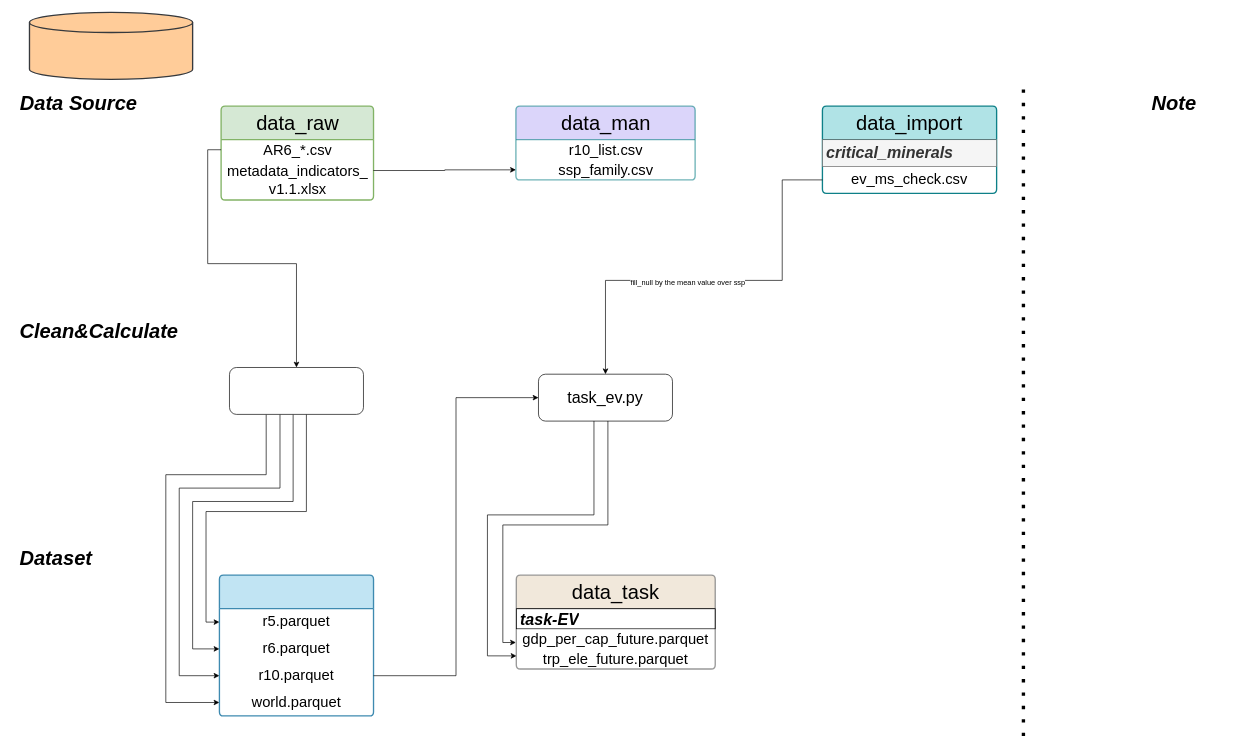
Some shapes in this 1235 by 750 pixel diagram are drawn without their labels. Each missing label, with the box of its shape:
csv2parquet.py: (229, 367, 363, 414)
data_clean: (218, 574, 374, 716)
Dataset-AR6: (28, 11, 193, 80)
